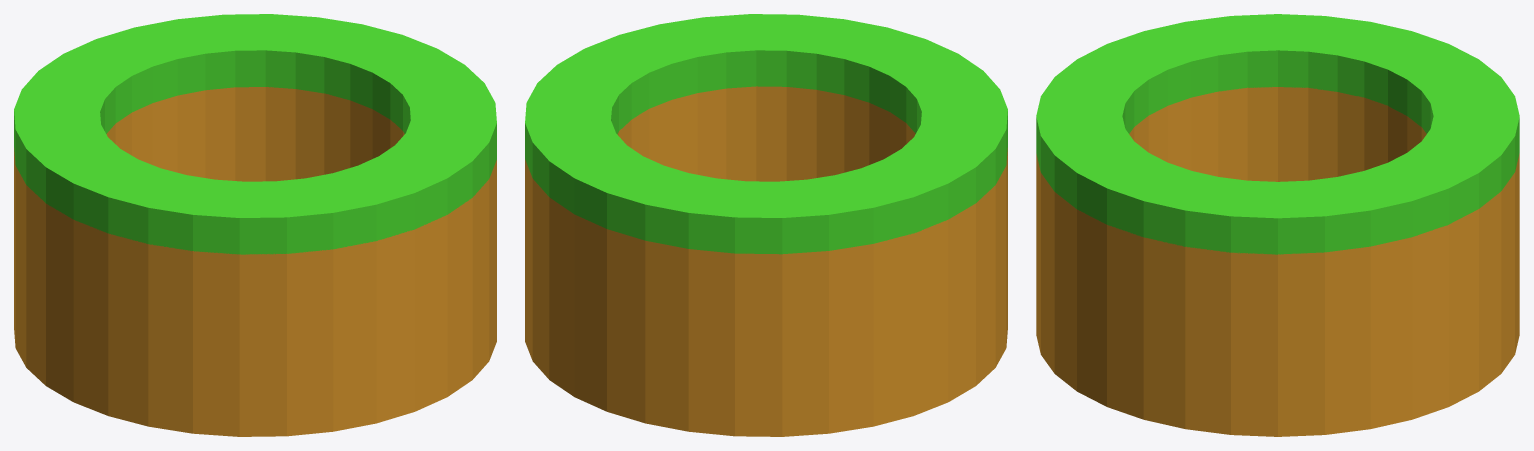
File: new_ground.fbx
3 renders of one model, left to right at view 1: azimuth 30°, elevation 25°; view 2: azimuth 150°, elevation 25°; view 3: azimuth 270°, elevation 25°, orthographic.
Visible parts, largest first — view 1: Cylinder, Cylinder.001; view 2: Cylinder, Cylinder.001; view 3: Cylinder, Cylinder.001.
Part boxes in pixels (x1=…): Cylinder: x1=14, y1=87, x2=496, y2=436; Cylinder.001: x1=14, y1=14, x2=496, y2=254; Cylinder: x1=525, y1=86, x2=1007, y2=436; Cylinder.001: x1=525, y1=14, x2=1007, y2=254; Cylinder: x1=1036, y1=87, x2=1519, y2=436; Cylinder.001: x1=1036, y1=14, x2=1519, y2=254.
Bounding box in the file's own units: 480 × 240 × 480.
